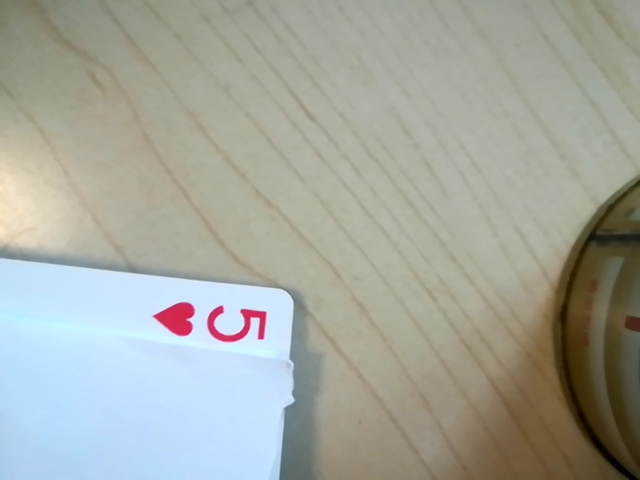hx 5: (155, 293, 286, 356)
